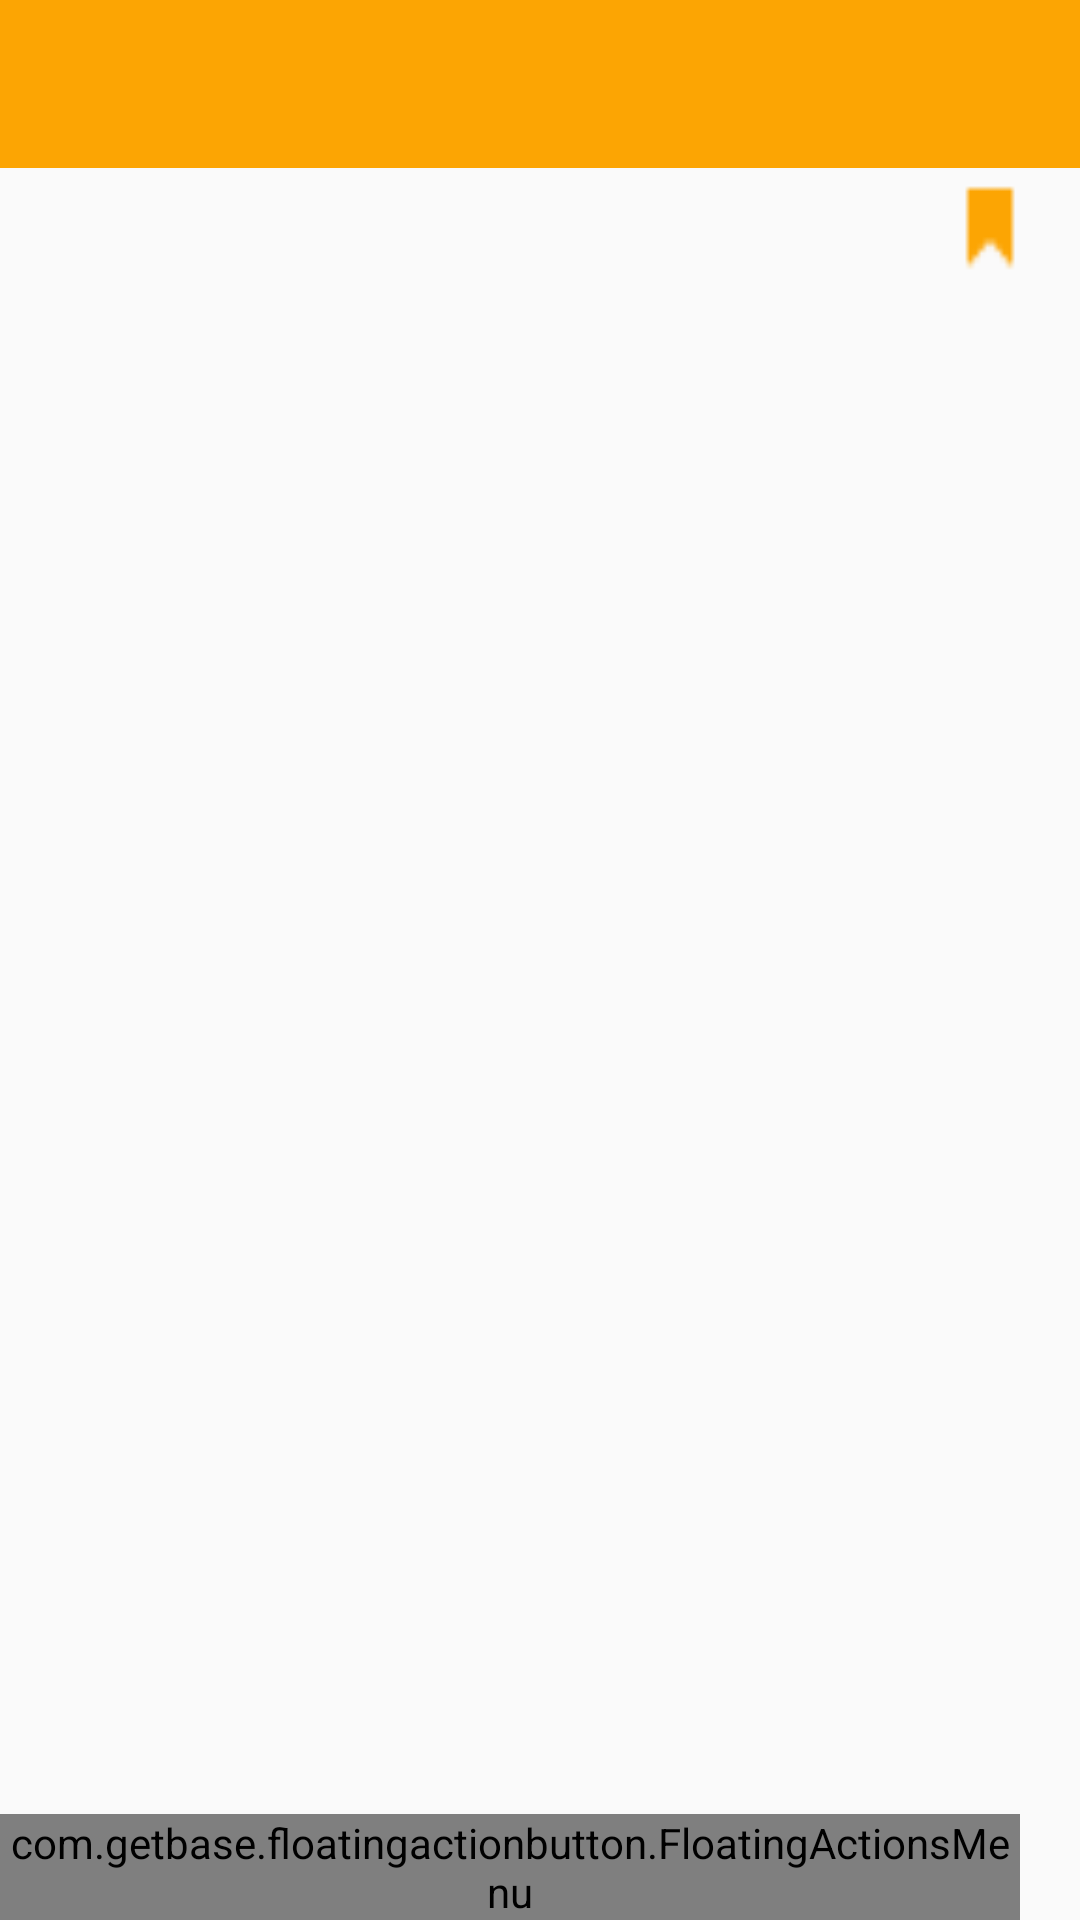

Named icons in this screenshot (1080 x 1920) and their centers, [x,y]:
biaoqian: [990,227]
